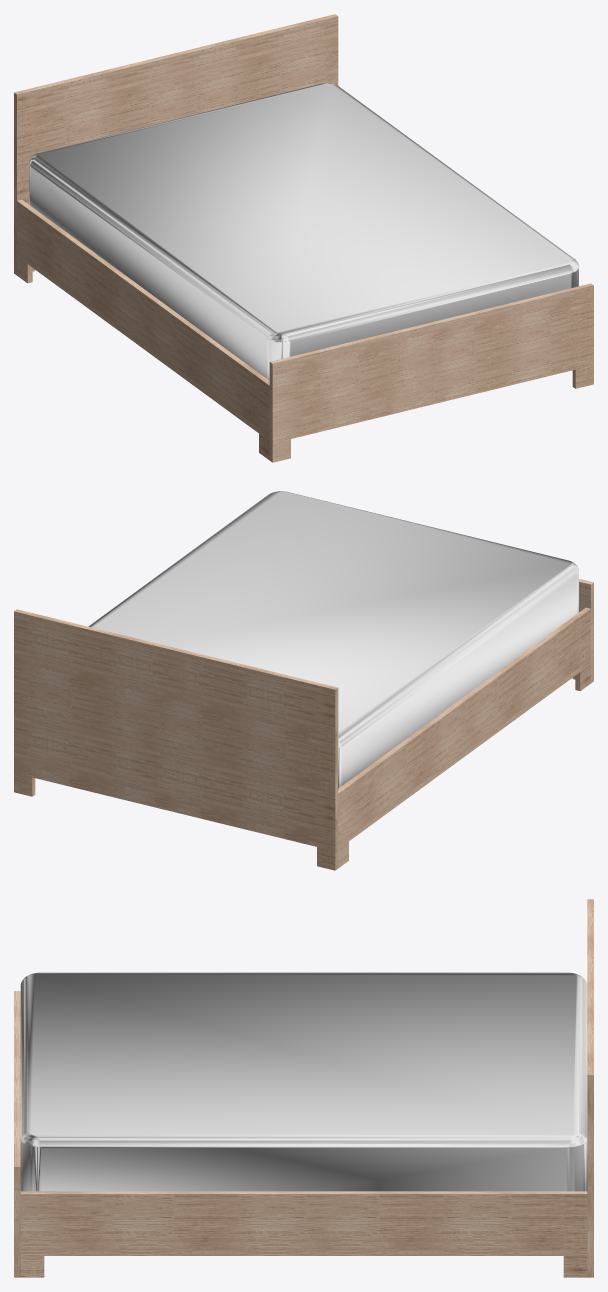
File: doubleBed.glb
The picture shows the model from 3 angles, top to bottom: view 1: azimuth 30°, elevation 25°; view 2: azimuth 150°, elevation 25°; view 3: azimuth 270°, elevation 25°; orthographic projection. The views are drawn at different scales.
Parts seen in each view (by area): view 1: Body5, Body4, Body1, Body2; view 2: Body5, Body1, Body2, Body4; view 3: Body5, Body3, Body1, Body4.
Boxes of the visible parts, <box> form: Body5: <box>29,83,578,380</box>; Body4: <box>269,283,593,462</box>; Body1: <box>14,14,338,275</box>; Body2: <box>17,199,269,460</box>; Body5: <box>88,491,578,788</box>; Body1: <box>14,609,338,870</box>; Body2: <box>338,607,590,867</box>; Body4: <box>572,579,593,683</box>; Body5: <box>20,972,587,1191</box>; Body3: <box>20,1191,587,1277</box>; Body1: <box>587,899,593,1277</box>; Body4: <box>14,991,20,1277</box>.
Size of the model in its own units: 1.39 by 0.75 by 1.94.
Materials: 2 (1 with a texture image).
